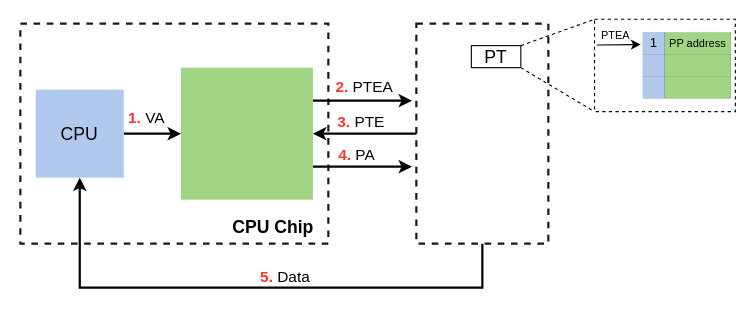
Some shapes in this 755 by 317 pixel diagram are drawn without their labels. Here are the shapes that lost their labels. From the top down, the box of each, then its label:
(180, 67, 312, 199): MMU
(415, 22, 549, 244): Cache/RAM
